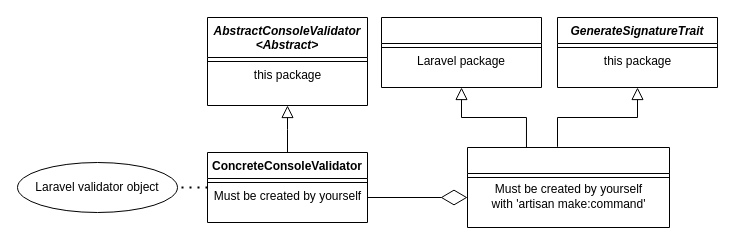
The diagram is 735 pixels wide and 245 high, and some of its shapes have lost their labels. Each missing label, with the box of its shape:
Command: (380, 16, 542, 88)
CreateUserConsoleCommand: (466, 146, 670, 228)
